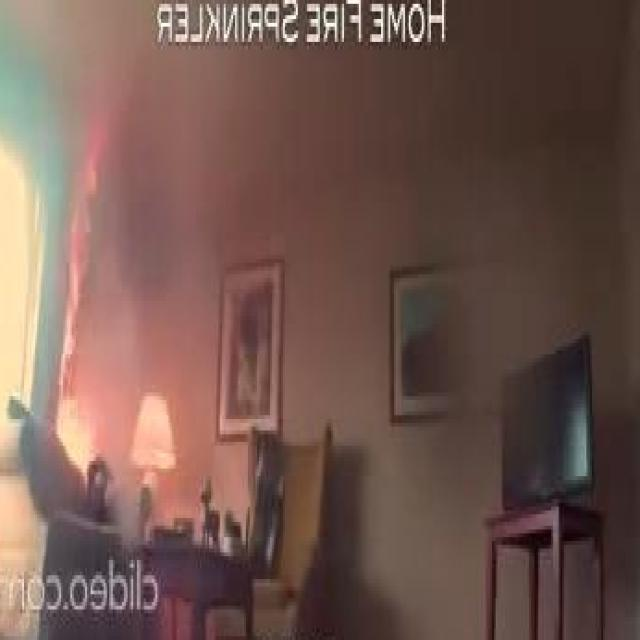smoke: (52, 124, 116, 463)
